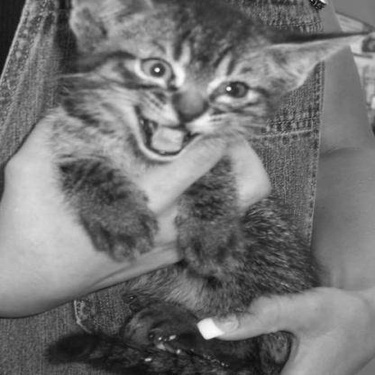cat: (44, 5, 370, 371)
